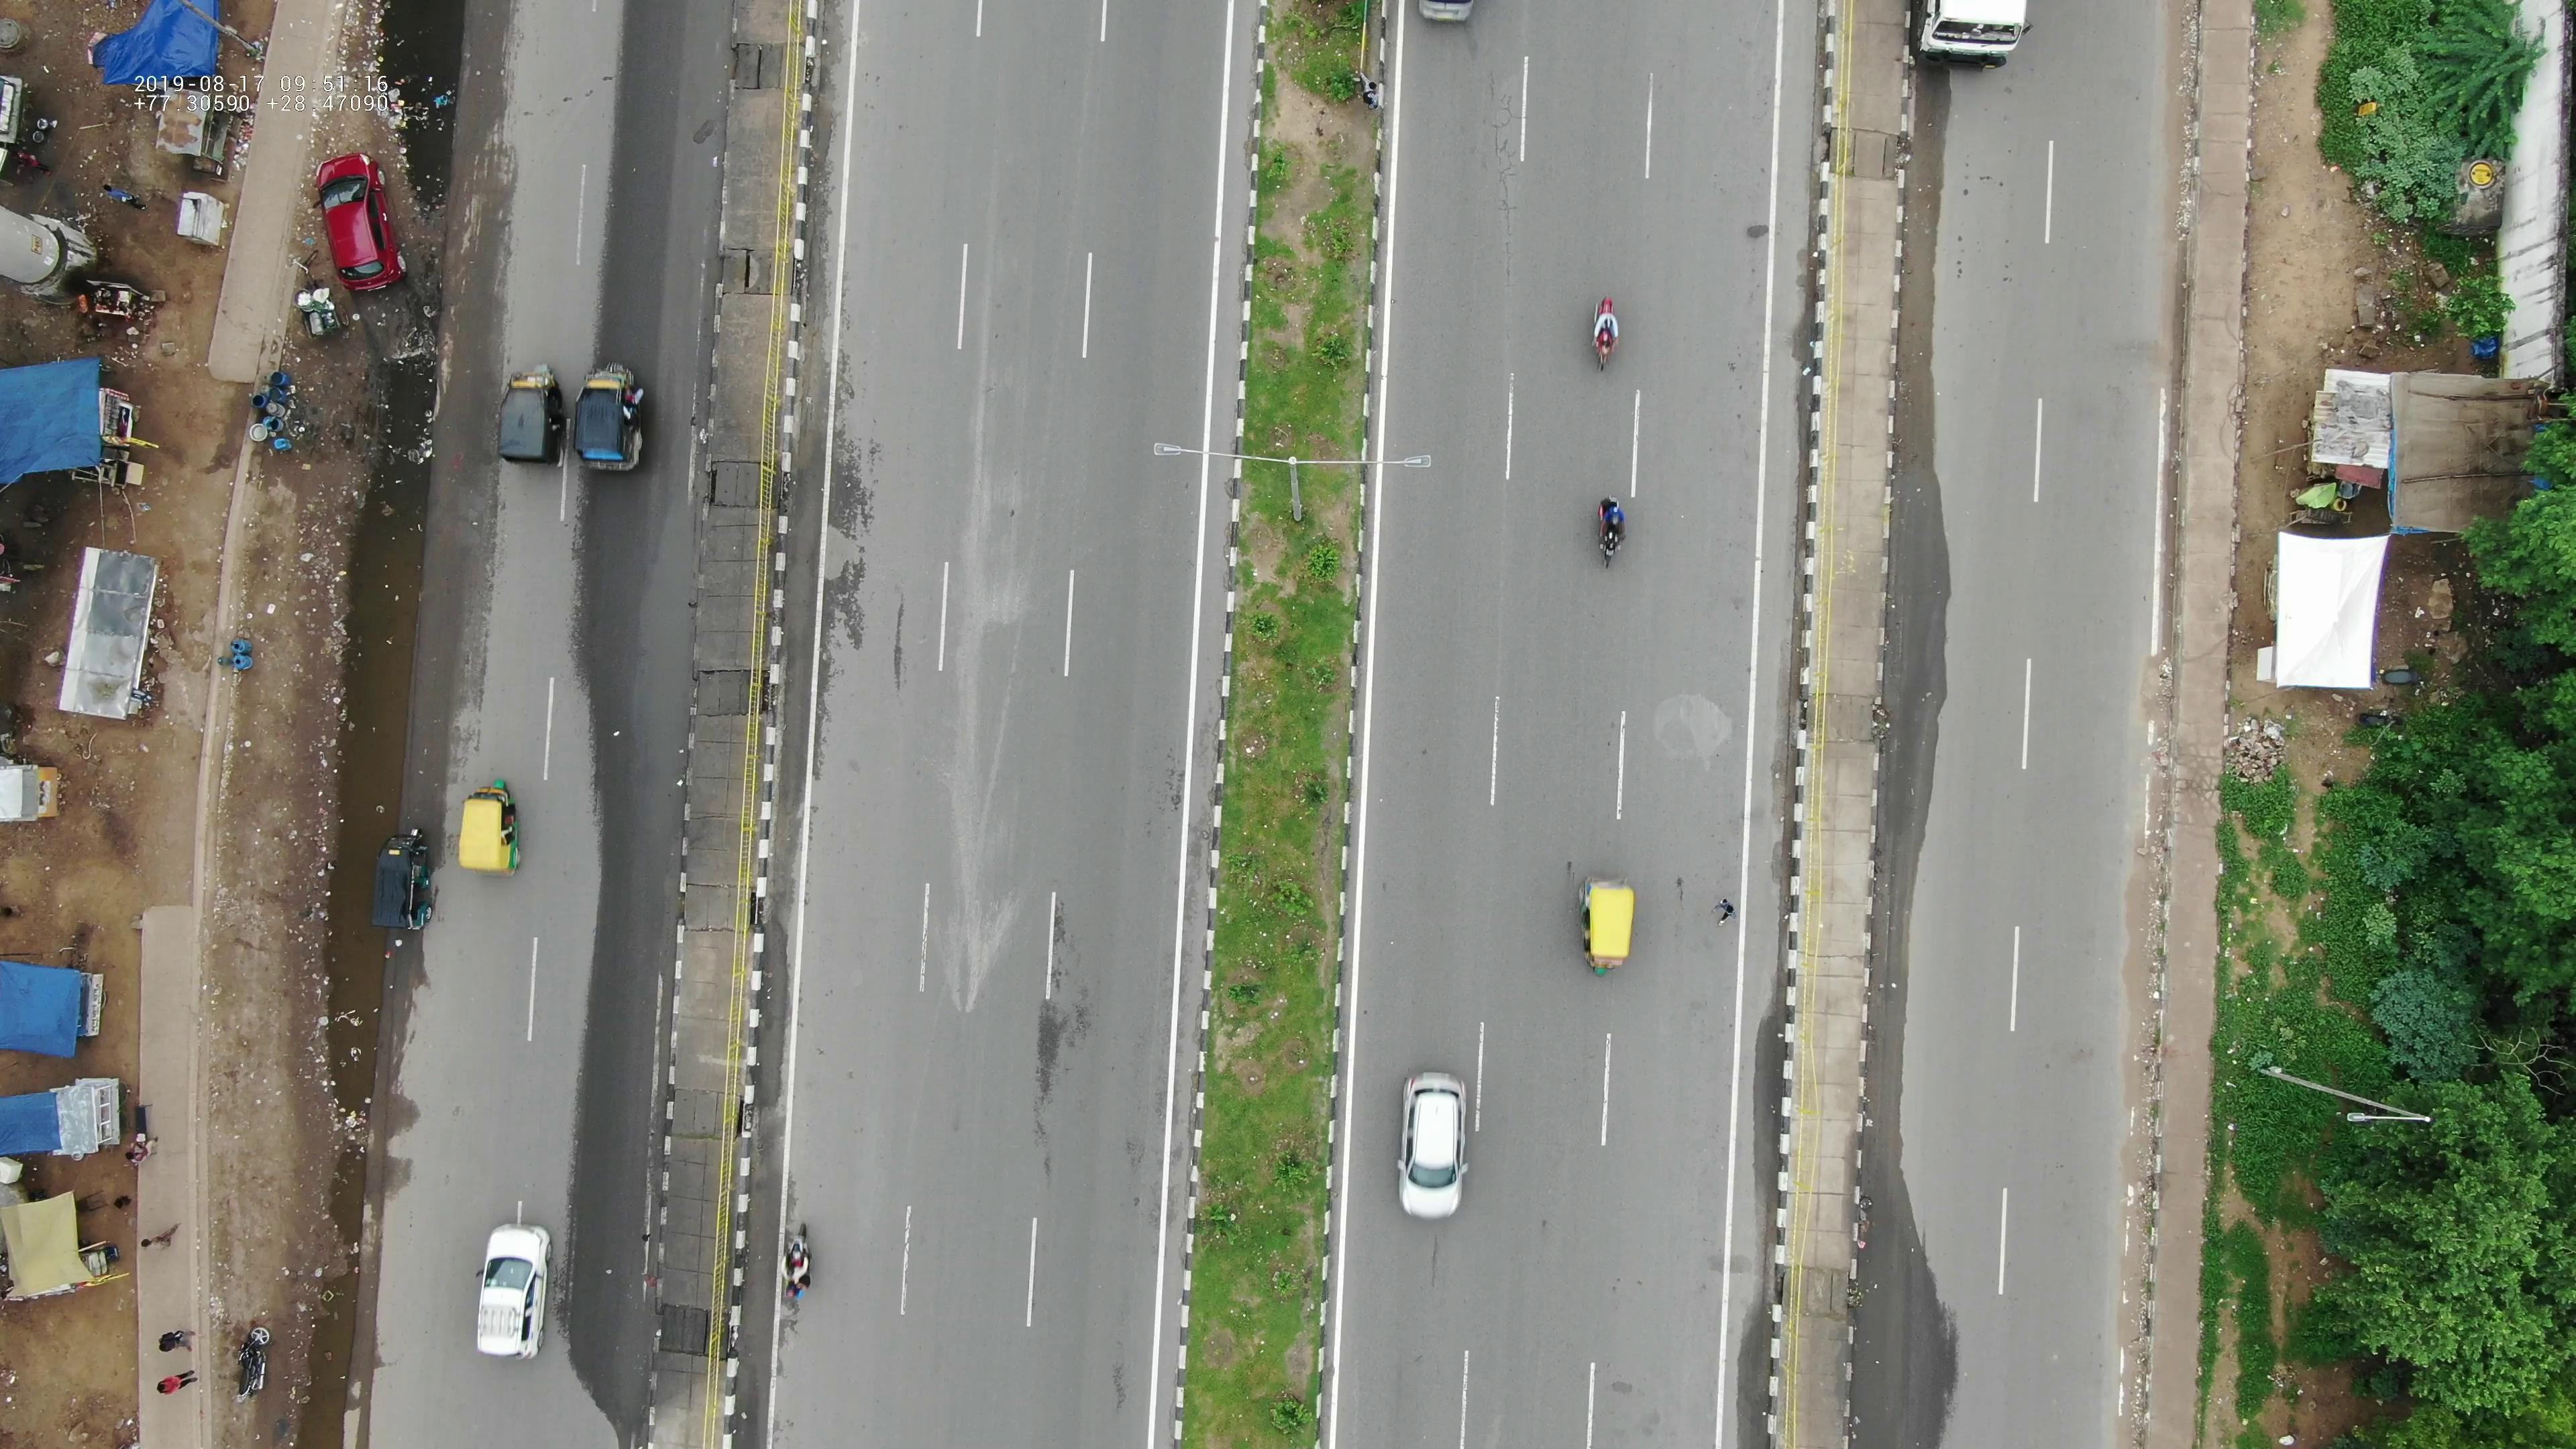Hair_cracks: (1470, 78, 1537, 297), (809, 432, 886, 547), (801, 575, 870, 692)
Waterlogging: (281, 948, 405, 1196), (320, 605, 441, 809), (338, 379, 444, 591), (292, 1207, 373, 1449), (361, 2, 474, 165)
